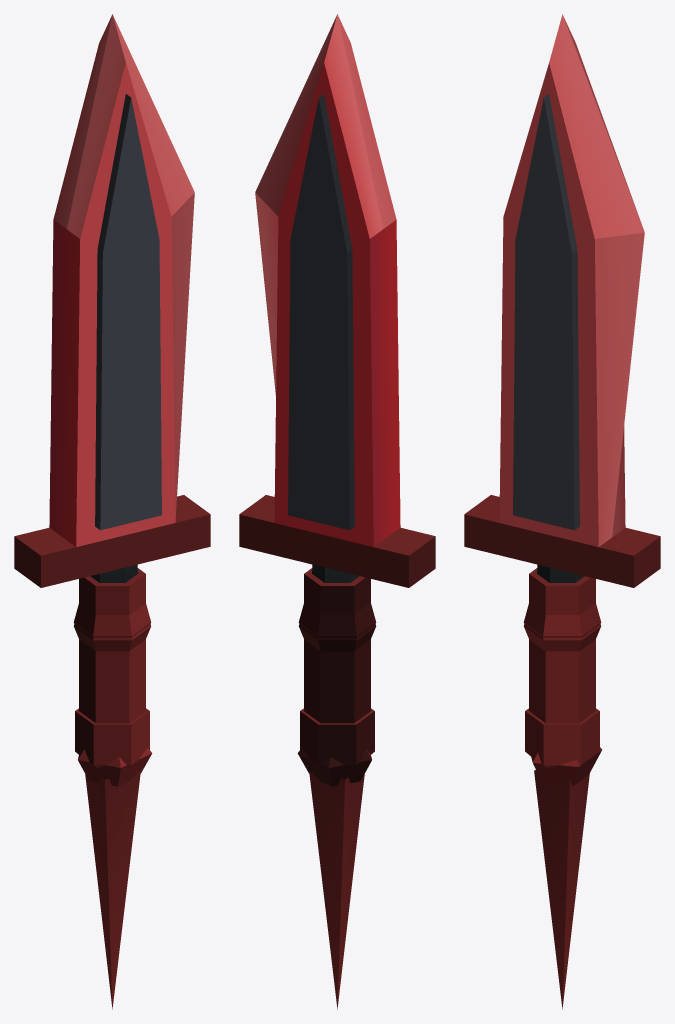
Rendered from ranger_knives_3.gltf.
3 views of the same model, side by side, from view 1: azimuth 30°, elevation 25°; view 2: azimuth 150°, elevation 25°; view 3: azimuth 330°, elevation 25° (orthographic).
Parts seen in each view (by area): view 1: ranger_knives_3; view 2: ranger_knives_3; view 3: ranger_knives_3.
Part boxes in pixels (box(x1,y1,x2,y2)): ranger_knives_3: box(14, 14, 210, 1009); ranger_knives_3: box(239, 14, 435, 1009); ranger_knives_3: box(464, 14, 660, 1009).
Bounding box in the file's own units: 0.22 × 1.23 × 0.087.
1 material, 1 textured.
